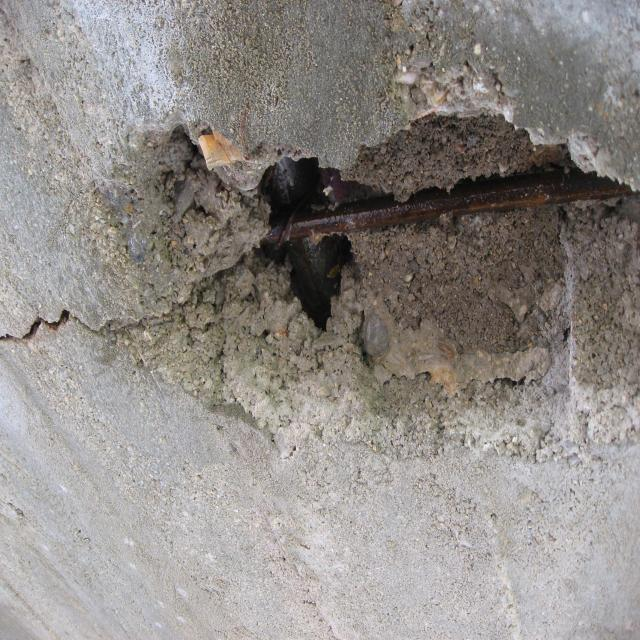Rebar: (0, 104, 640, 444)
